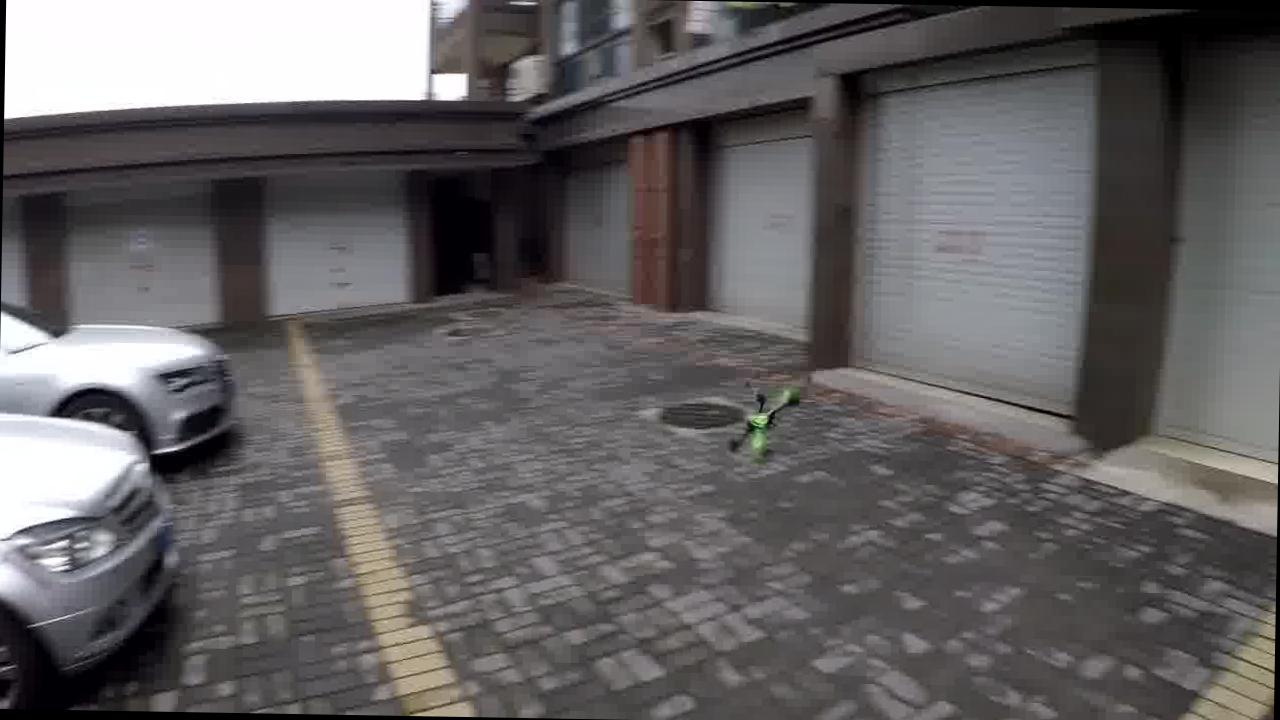drone: (717, 371, 814, 466)
